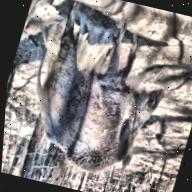boar: (0, 0, 188, 191)
